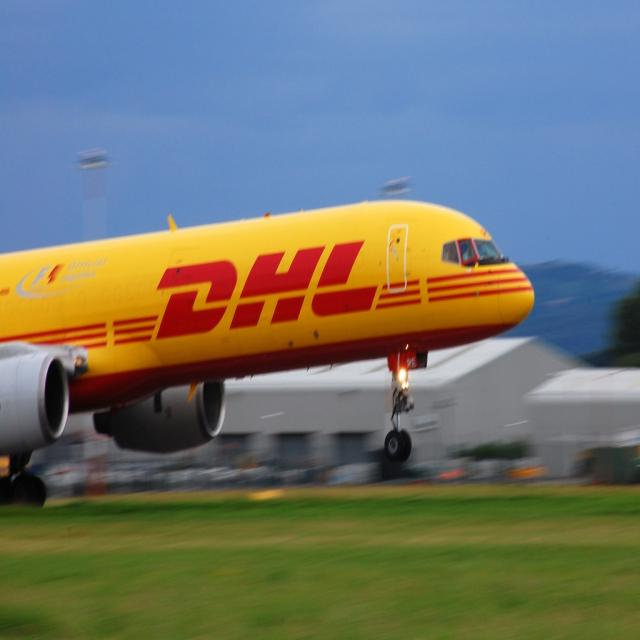dhl: (108, 233, 428, 350)
